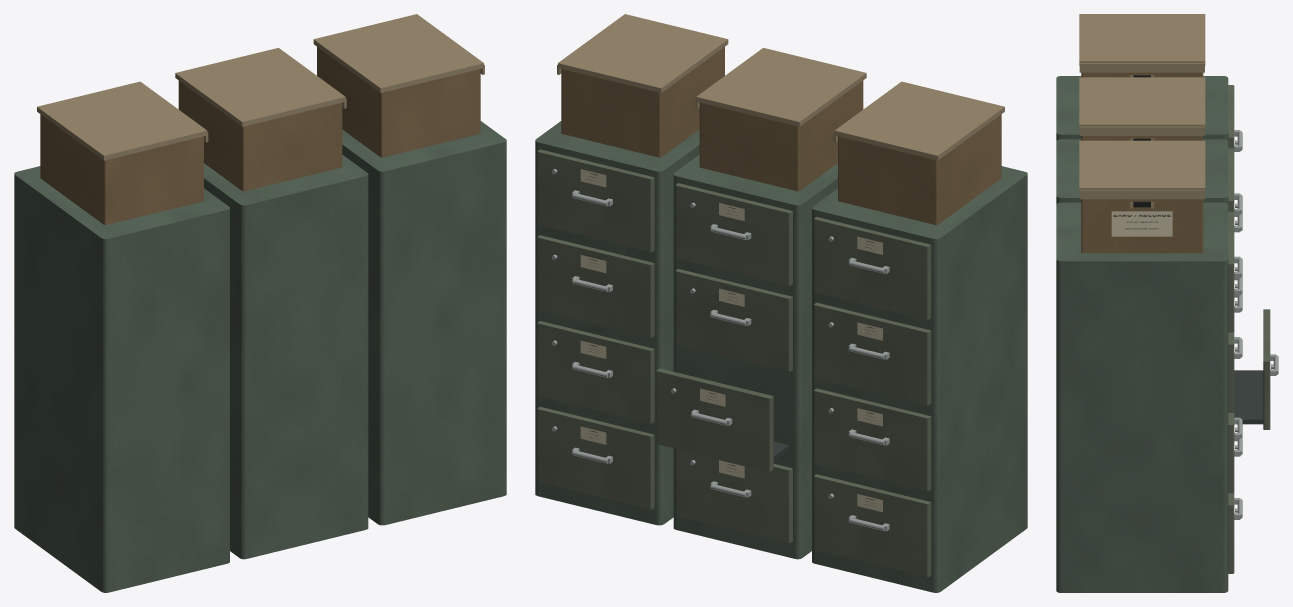
Rendered from SM_ArchiveProps_FilingCabinets.glb.
The picture shows the model from 3 angles, left to right: view 1: azimuth 30°, elevation 25°; view 2: azimuth 150°, elevation 25°; view 3: azimuth 270°, elevation 25°; orthographic projection. The views are drawn at different scales.
Parts seen in each view (by area): view 1: SM_ArchiveProps_FilingCabinets; view 2: SM_ArchiveProps_FilingCabinets; view 3: SM_ArchiveProps_FilingCabinets.
Boxes of the visible parts, x1,y1,x2,y2 form: SM_ArchiveProps_FilingCabinets: (14, 14, 506, 592); SM_ArchiveProps_FilingCabinets: (535, 14, 1027, 592); SM_ArchiveProps_FilingCabinets: (1056, 14, 1278, 592).
Size of the model in its own units: 1.58 by 1.59 by 0.802.
Materials: 8 (4 with a texture image).
